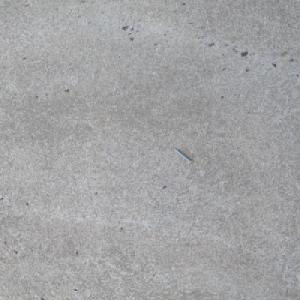Screw: (171, 147, 193, 163)
